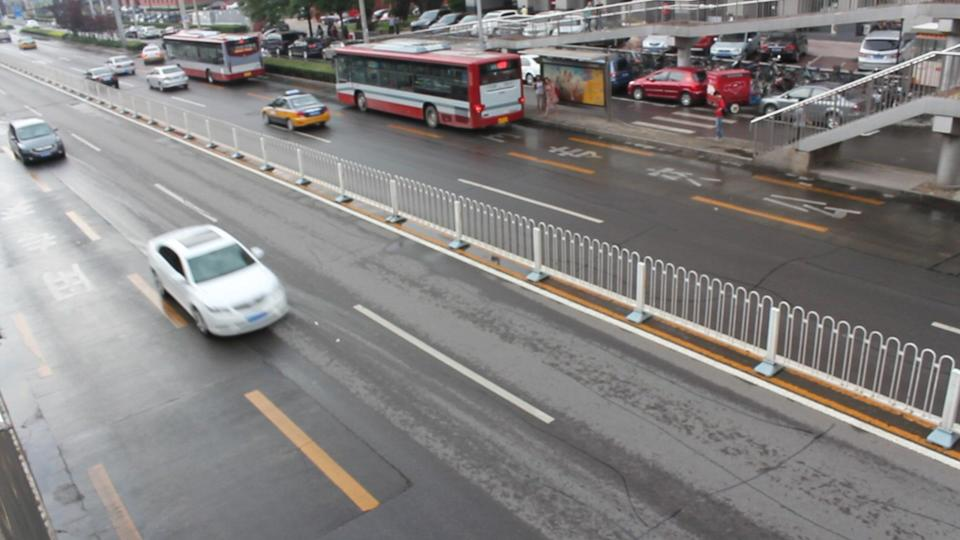bus: (333, 39, 523, 131), (161, 29, 266, 85)
car: (148, 223, 288, 336), (769, 83, 870, 132), (628, 67, 709, 107), (5, 115, 65, 165), (260, 91, 334, 130), (859, 23, 906, 68), (761, 28, 816, 65), (706, 32, 759, 64), (141, 64, 191, 93), (90, 59, 137, 79), (84, 63, 122, 83), (18, 38, 38, 50)
person: (706, 88, 731, 145)
